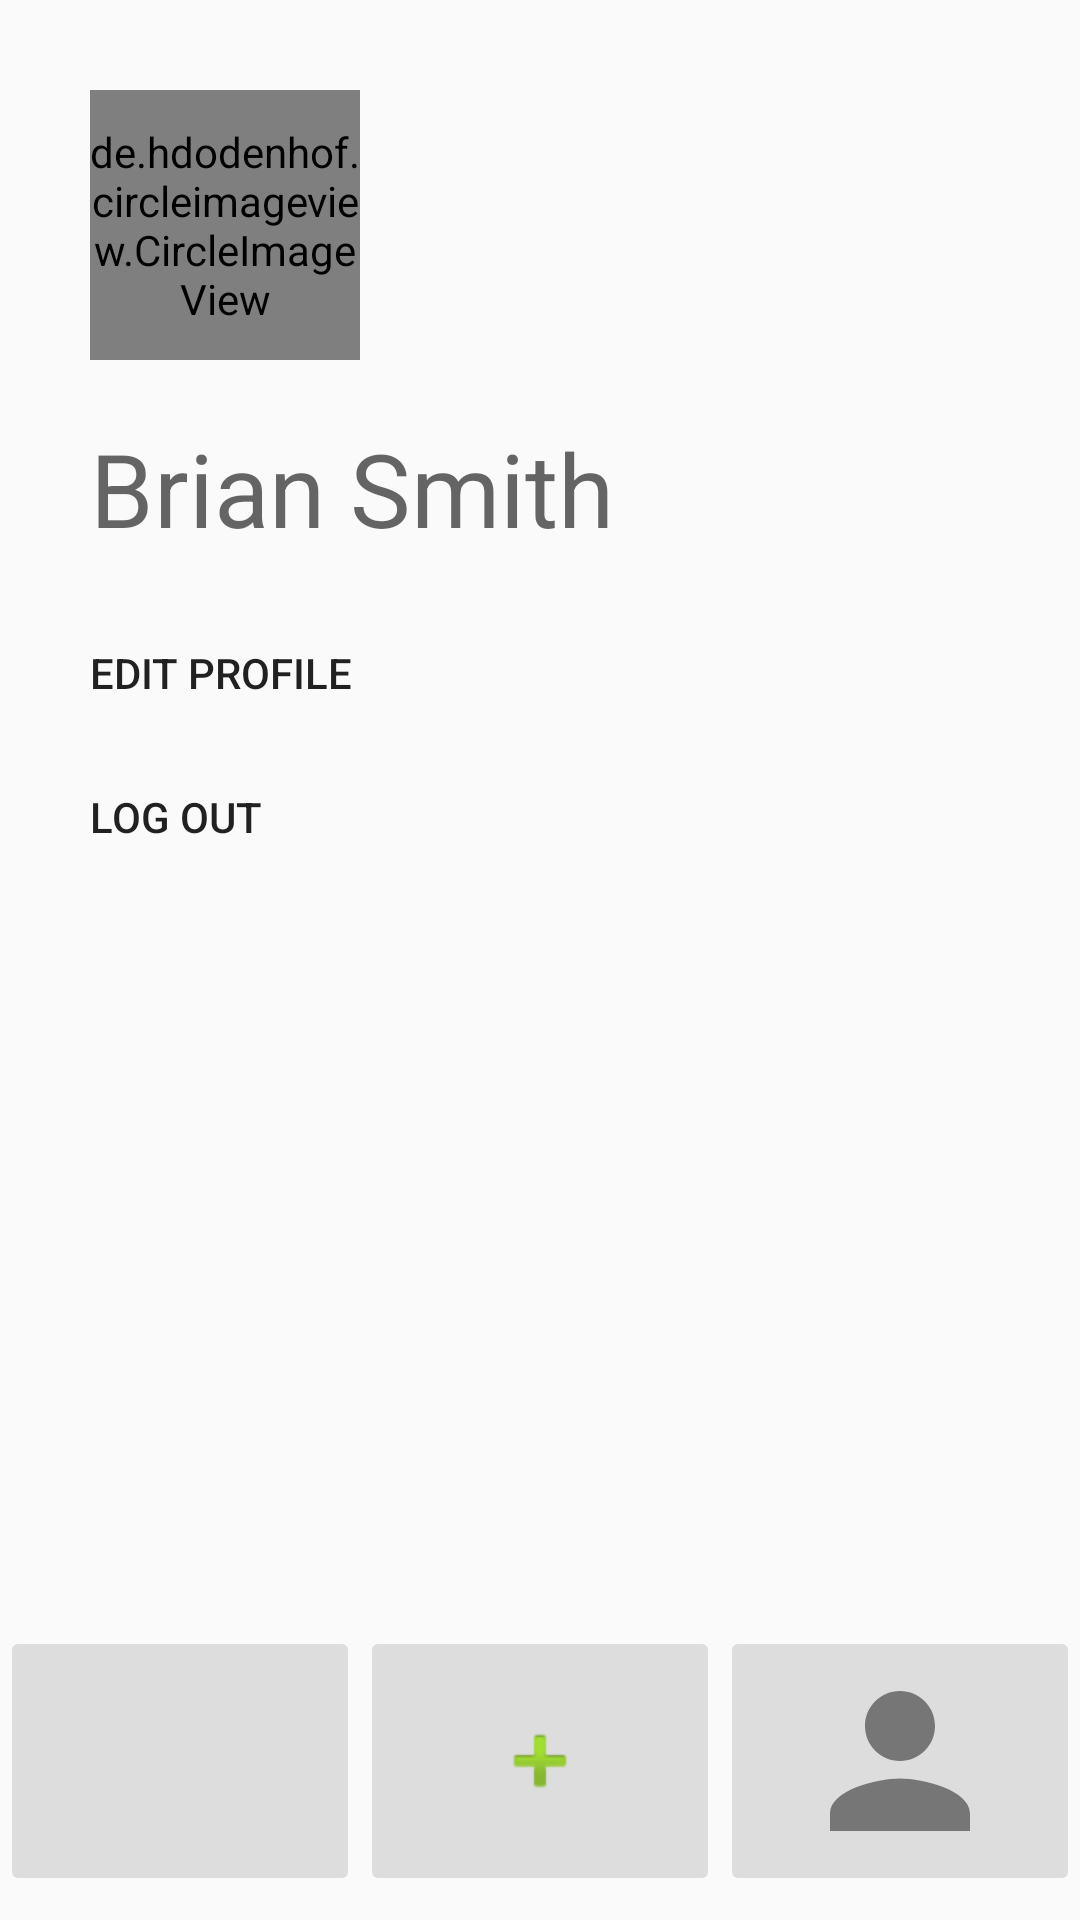

Named icons in this screenshot (1080px×1920px) and their centers, [x,y]:
add: [540,1761]
Profile: [900,1761]
